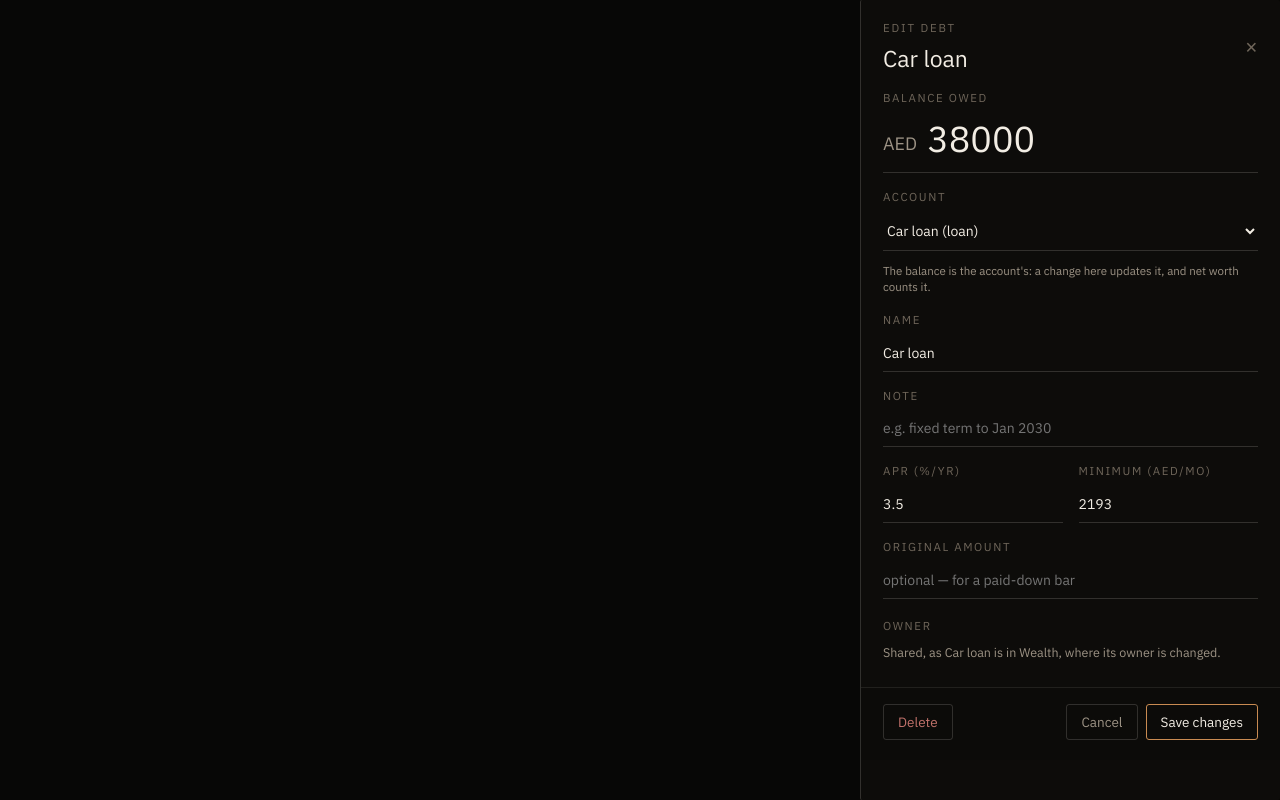
DebtEditor: a balance changed while it is open › writes a typed balance only over the one it showed, and says so when that had changed
Replace the text in the number field named "Balance owed" with "36000" at (1093, 138), box 927,115 -> 1258,162
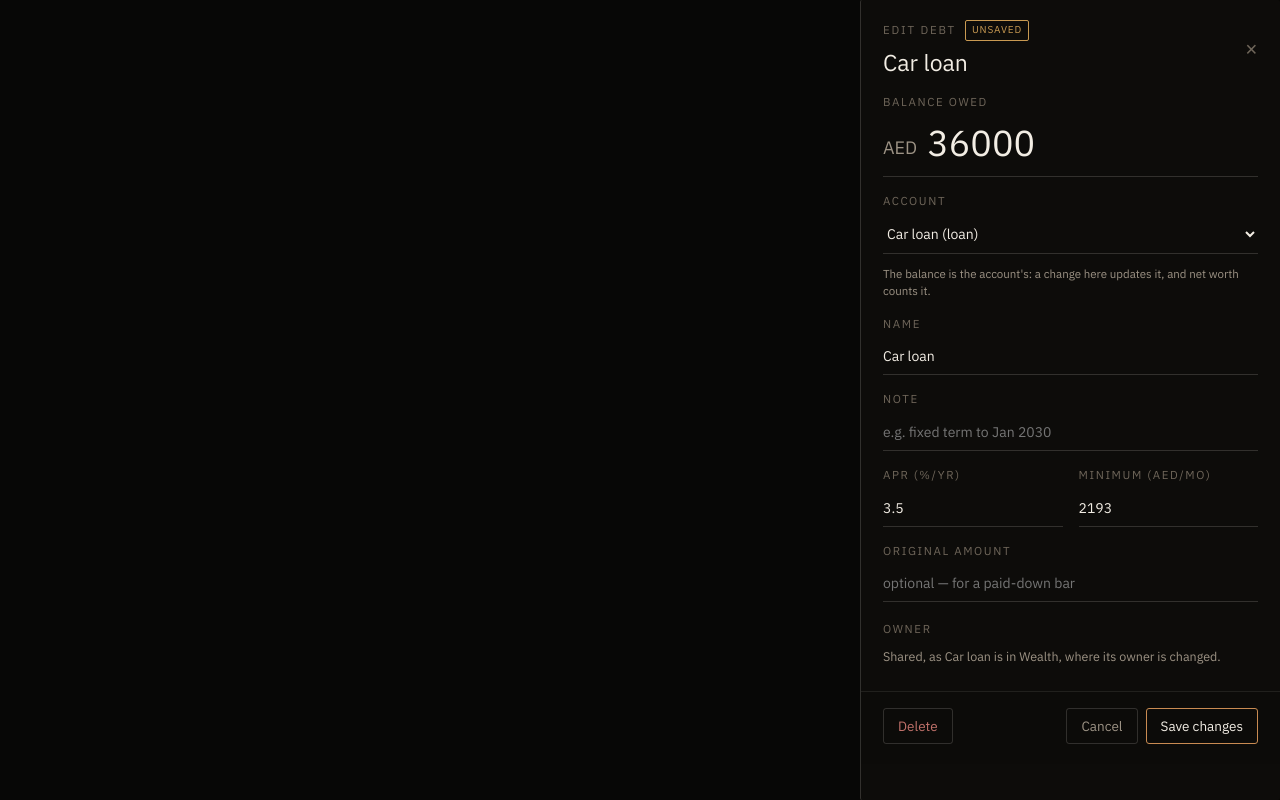
Click the button "Save changes" at (1202, 726), box 1146,708 -> 1258,744
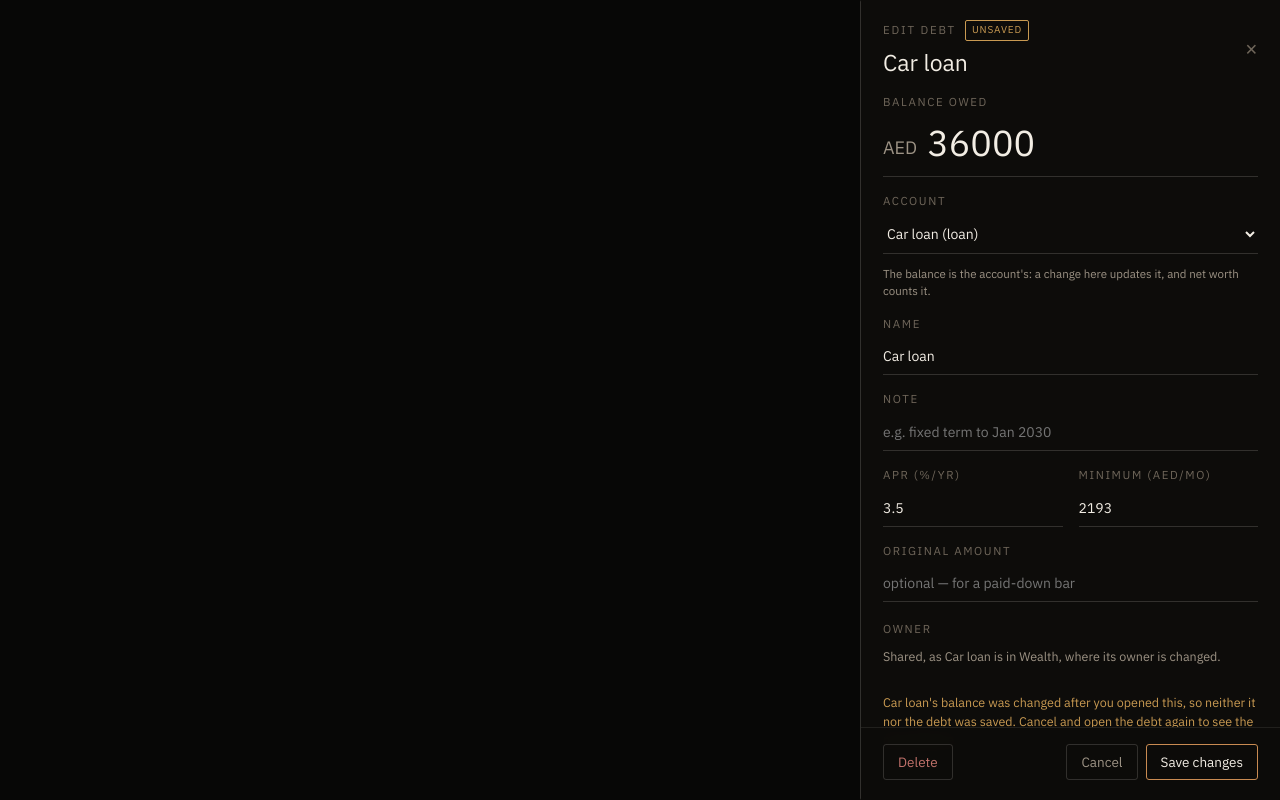
Expected: the message shows "Car loan's balance was changed after you opened this, so neither it nor the debt was saved. Cancel and open the debt again to see the new balance.", 883,694 -> 1256,747
